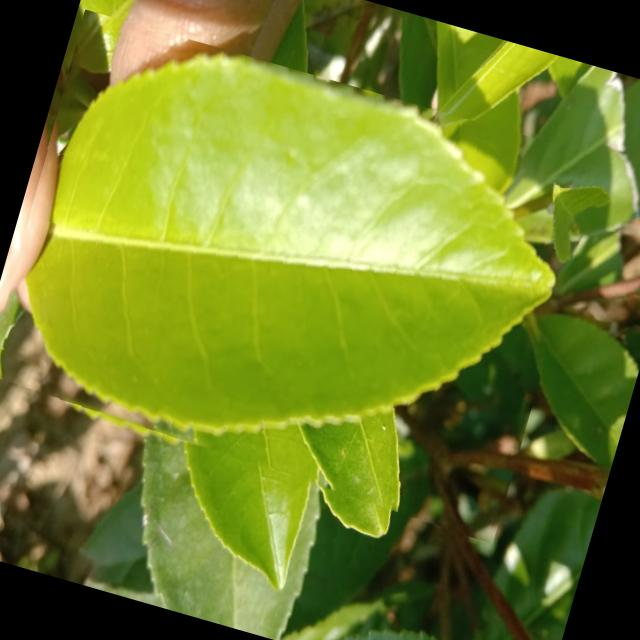Category B(2-4 days): (0, 9, 602, 544)
